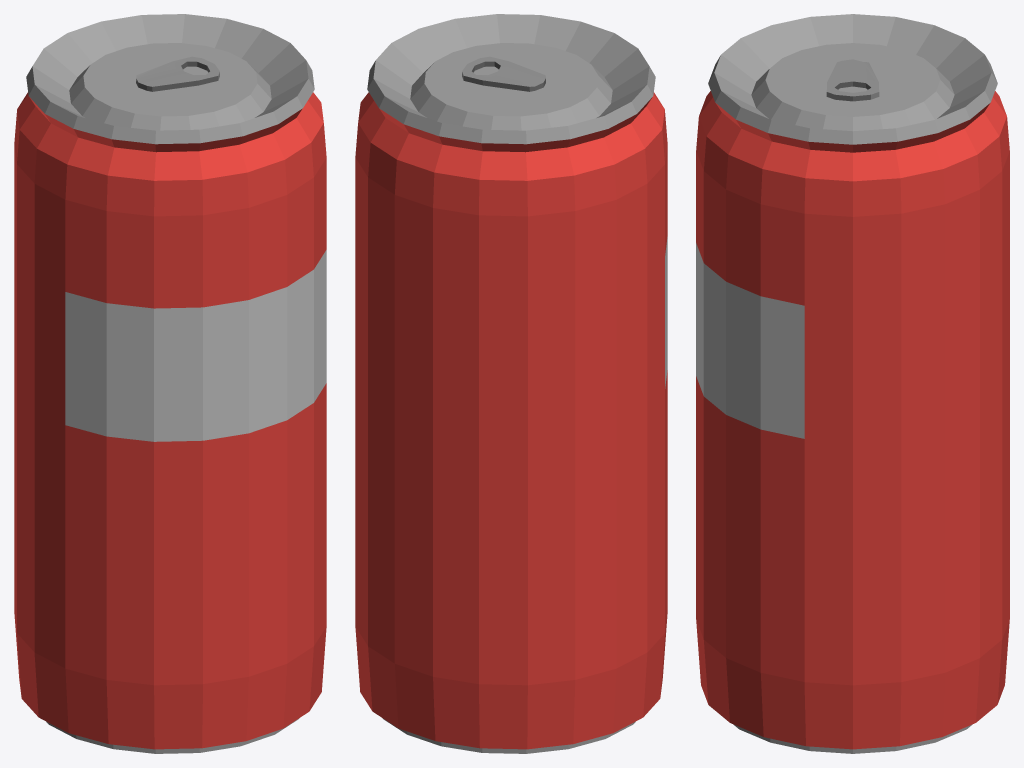
The model's file is Can_02.fbx.
The picture shows the model from 3 angles, left to right: view 1: azimuth 30°, elevation 25°; view 2: azimuth 150°, elevation 25°; view 3: azimuth 270°, elevation 25°; orthographic projection.
Visible parts, largest first — view 1: Can_02; view 2: Can_02; view 3: Can_02.
Boxes of the visible parts, x1,y1,x2,y2 form: Can_02: (14, 14, 326, 753); Can_02: (355, 14, 667, 753); Can_02: (696, 14, 1009, 753).
Size of the model in its own units: 6.76 by 14.78 by 6.76.
